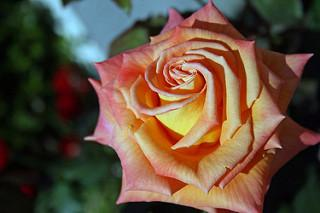Rose: (77, 8, 320, 208)
